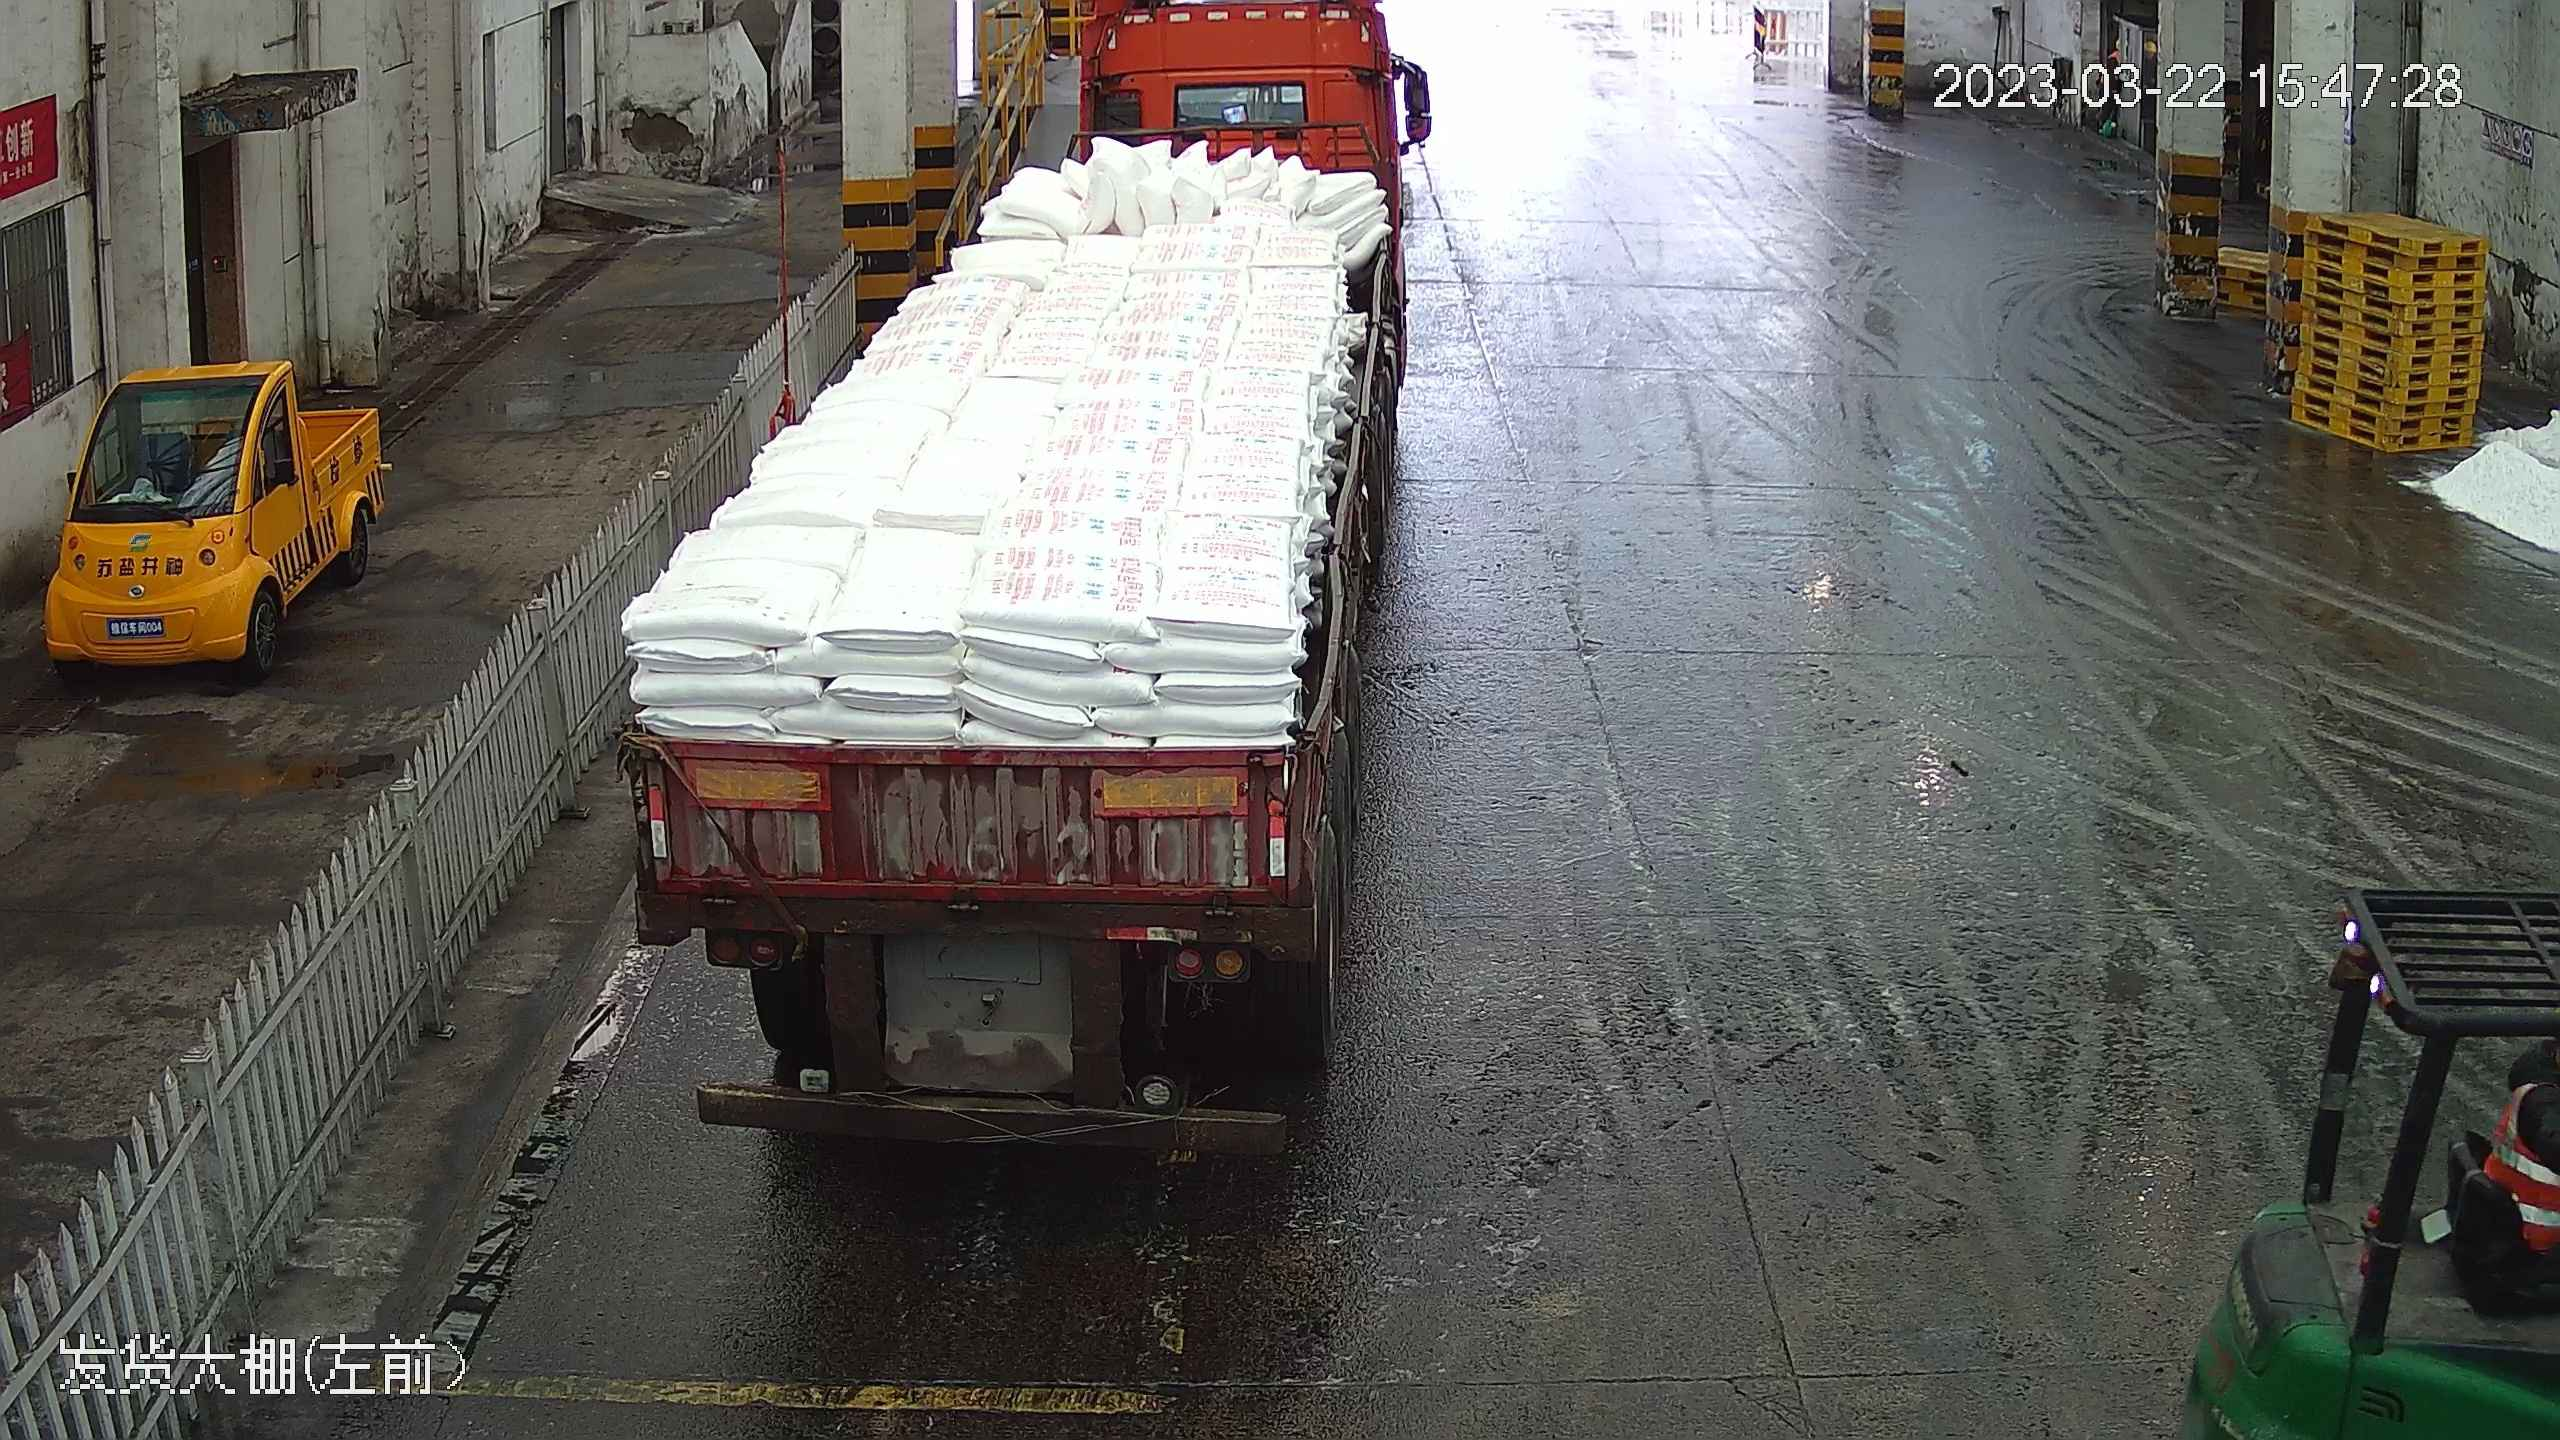truck: (605, 2, 1438, 1139)
